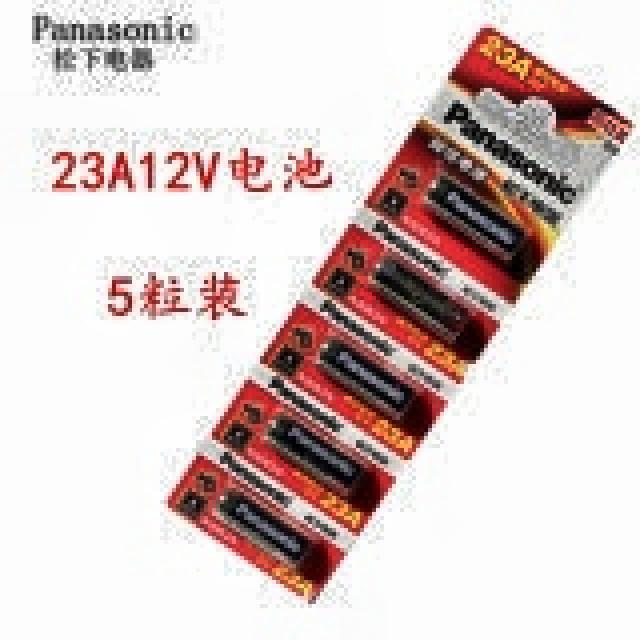battery: (428, 178, 524, 263), (375, 261, 468, 344), (320, 341, 414, 421), (269, 419, 362, 494), (220, 494, 310, 562)
